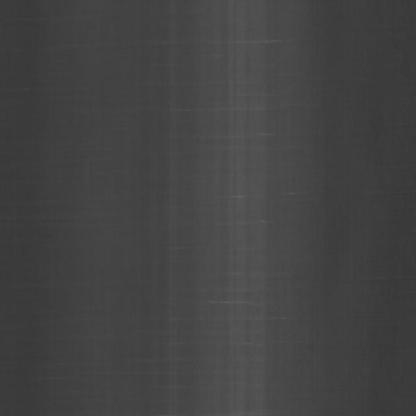waist_folding: (108, 84, 303, 395)
